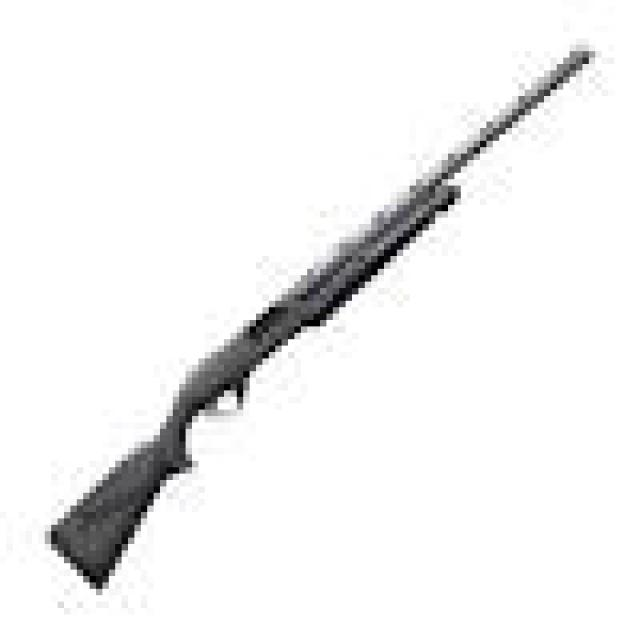long weapon: (38, 32, 622, 604)
